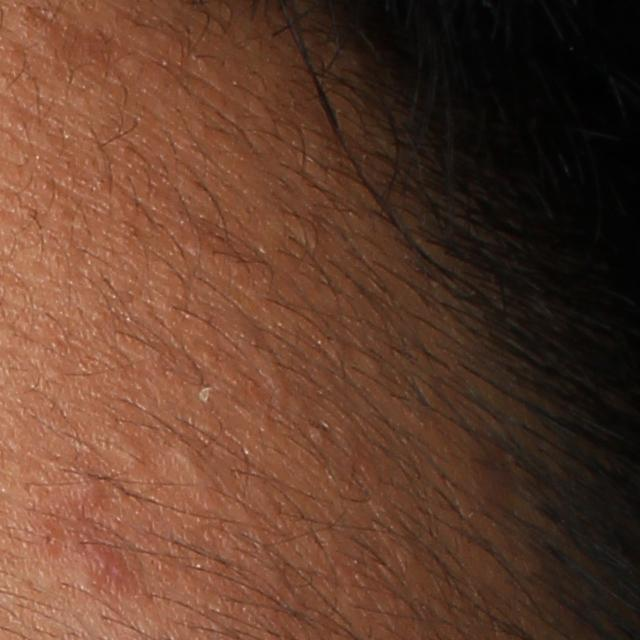comedo: (168, 445, 207, 491), (110, 432, 150, 469)
papule: (70, 532, 134, 582)
